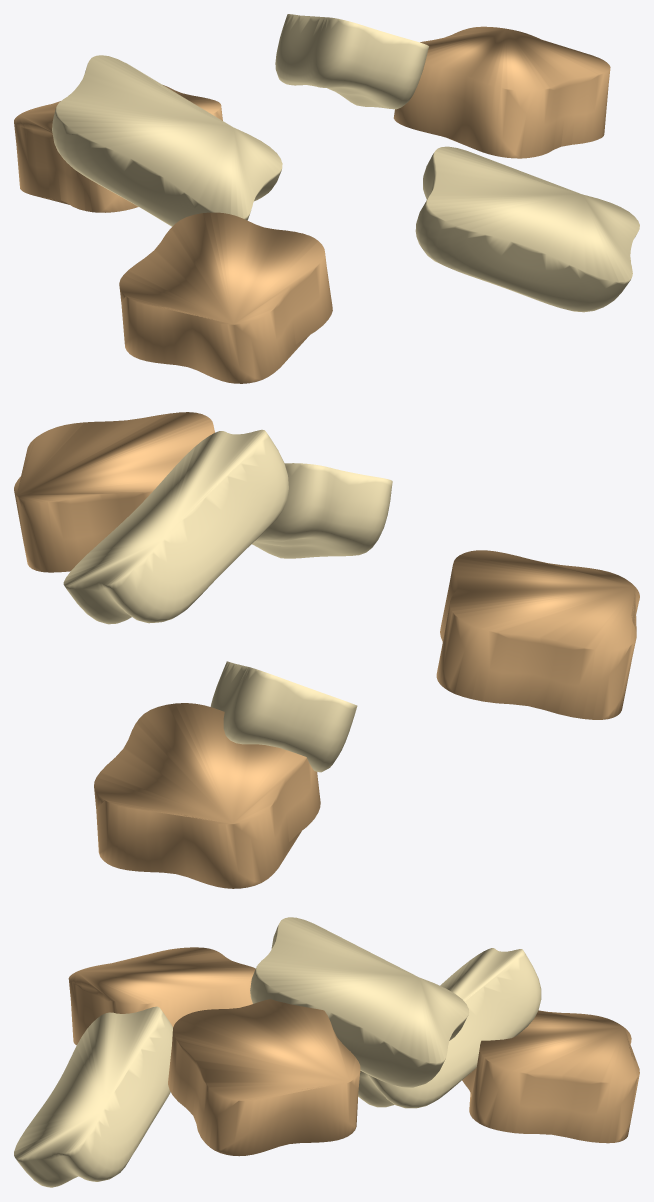
The model's file is platedtofu.fbx.
3 views of the same model, one above another, from view 1: azimuth 30°, elevation 25°; view 2: azimuth 150°, elevation 25°; view 3: azimuth 270°, elevation 25° (orthographic). The views are drawn at different scales.
Parts seen in each view (by area): view 1: Sphere.022, Sphere.028, Sphere.027, Sphere.023, Sphere.026, Sphere.025; view 2: Sphere.025, Sphere.022, Sphere.026, Sphere.023, Sphere.028, Sphere.027; view 3: Sphere.023, Sphere.026, Sphere.025, Sphere.028, Sphere.022, Sphere.027.
Boxes of the visible parts, box(x1,y1,x2,y2) form: Sphere.022: box(119, 212, 332, 383); Sphere.028: box(415, 146, 639, 312); Sphere.027: box(52, 55, 282, 226); Sphere.023: box(393, 26, 610, 158); Sphere.026: box(275, 14, 428, 109); Sphere.025: box(14, 85, 222, 212); Sphere.025: box(94, 703, 320, 888); Sphere.022: box(436, 550, 639, 719); Sphere.026: box(63, 429, 288, 624); Sphere.023: box(14, 412, 214, 572); Sphere.028: box(252, 463, 392, 558); Sphere.027: box(210, 661, 357, 772); Sphere.023: box(168, 999, 360, 1156); Sphere.026: box(250, 917, 469, 1087); Sphere.025: box(462, 1010, 639, 1143); Sphere.028: box(14, 1006, 172, 1187); Sphere.022: box(68, 947, 255, 1045); Sphere.027: box(358, 948, 541, 1108).
Bounding box in the file's own units: 257 × 122 × 290.
